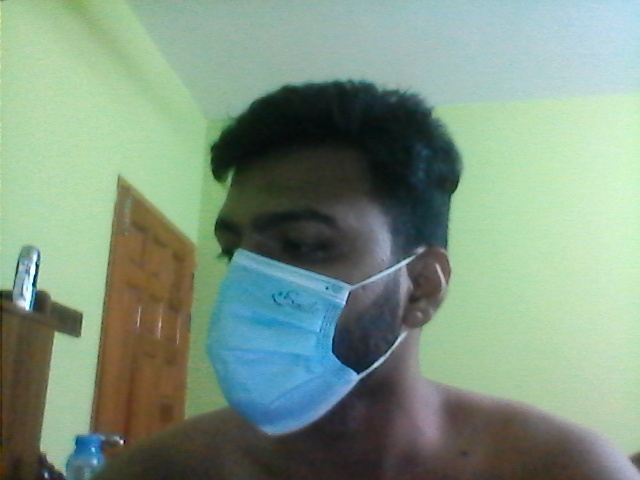Mask: (203, 248, 358, 437)
